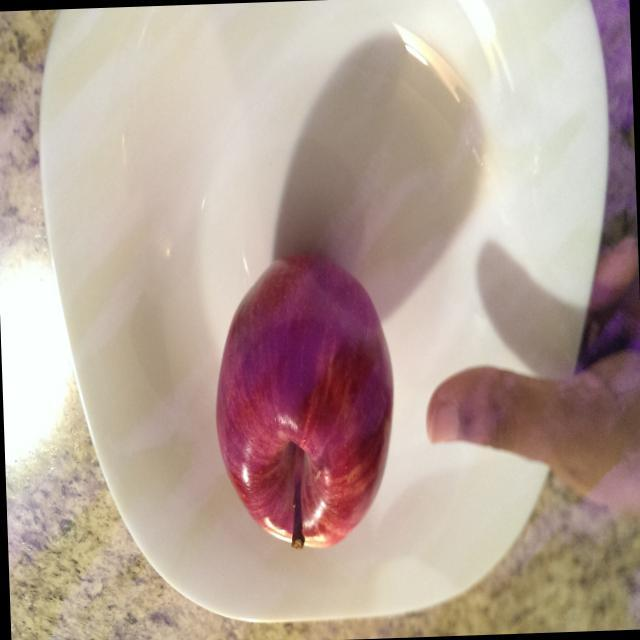Apple: (207, 244, 404, 560)
Finger: (420, 356, 529, 472)
